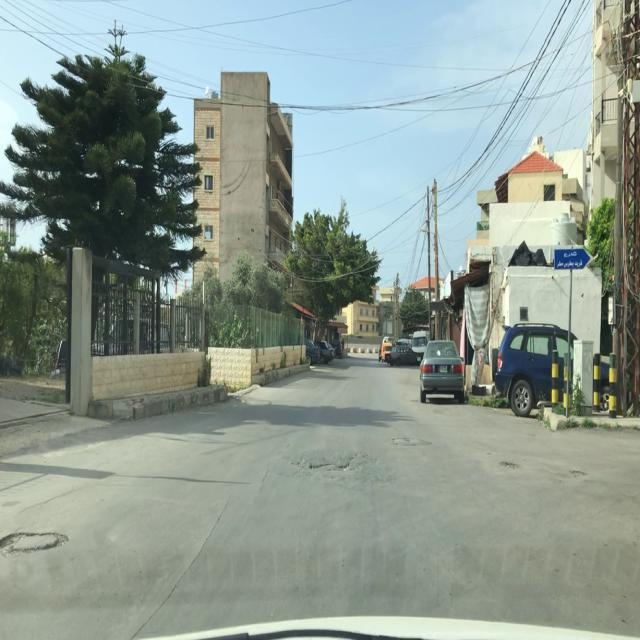pothole: (1, 530, 71, 557), (306, 452, 368, 475), (391, 436, 433, 449), (568, 466, 589, 481), (499, 459, 520, 470)
